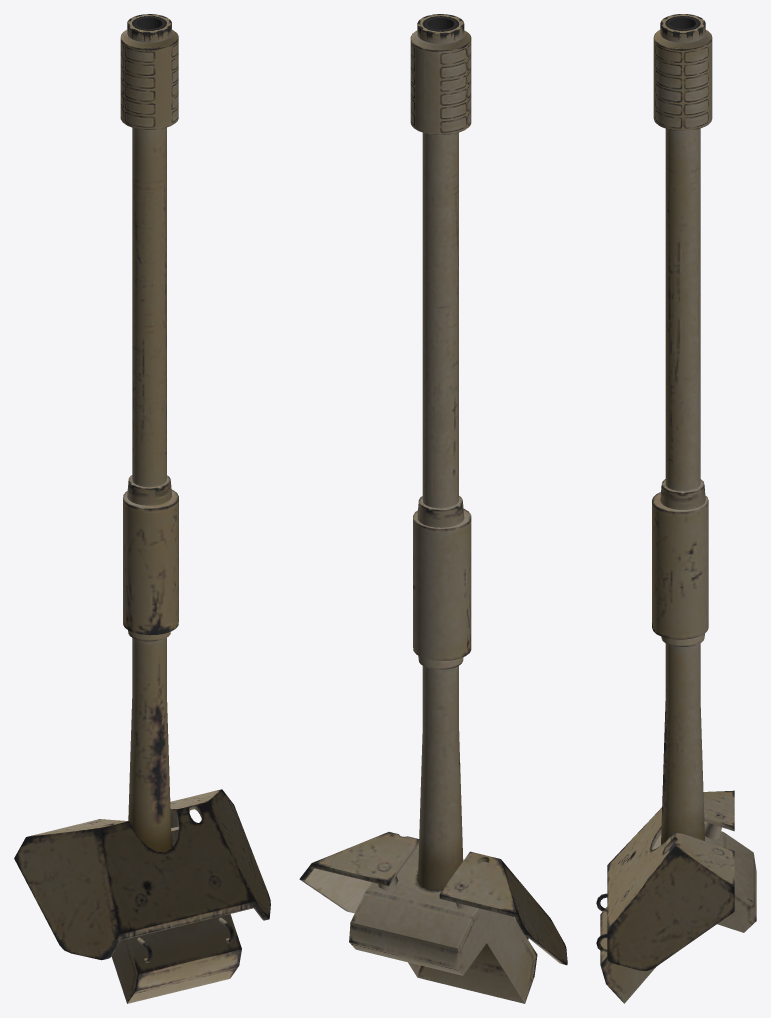
The model's file is Gun_01.glb.
3 views of the same model, side by side, from view 1: azimuth 30°, elevation 25°; view 2: azimuth 150°, elevation 25°; view 3: azimuth 270°, elevation 25° (orthographic). The views are drawn at different scales.
Parts seen in each view (by area): view 1: set_0_group_0; view 2: set_0_group_0; view 3: set_0_group_0.
Boxes of the visible parts, box(x1,y1,x2,y2) form: set_0_group_0: box(14, 14, 270, 1003); set_0_group_0: box(299, 14, 567, 1003); set_0_group_0: box(596, 14, 756, 1003).
Bounding box in the file's own units: 1.13 × 4.65 × 0.7066.
1 material, 1 textured.
